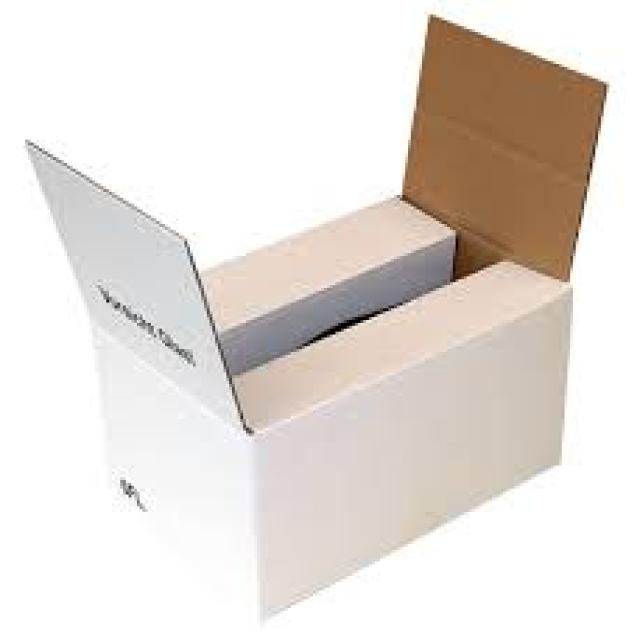cardboard: (20, 12, 604, 614)
